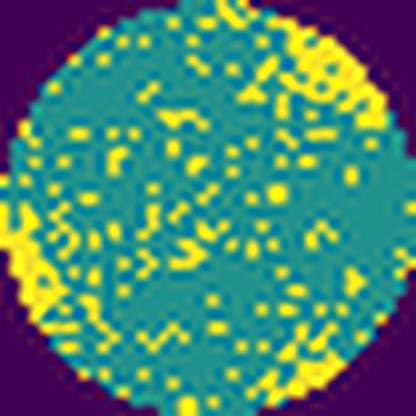Edge-Loc: (260, 15, 396, 134), (0, 193, 75, 326), (250, 346, 350, 406)
